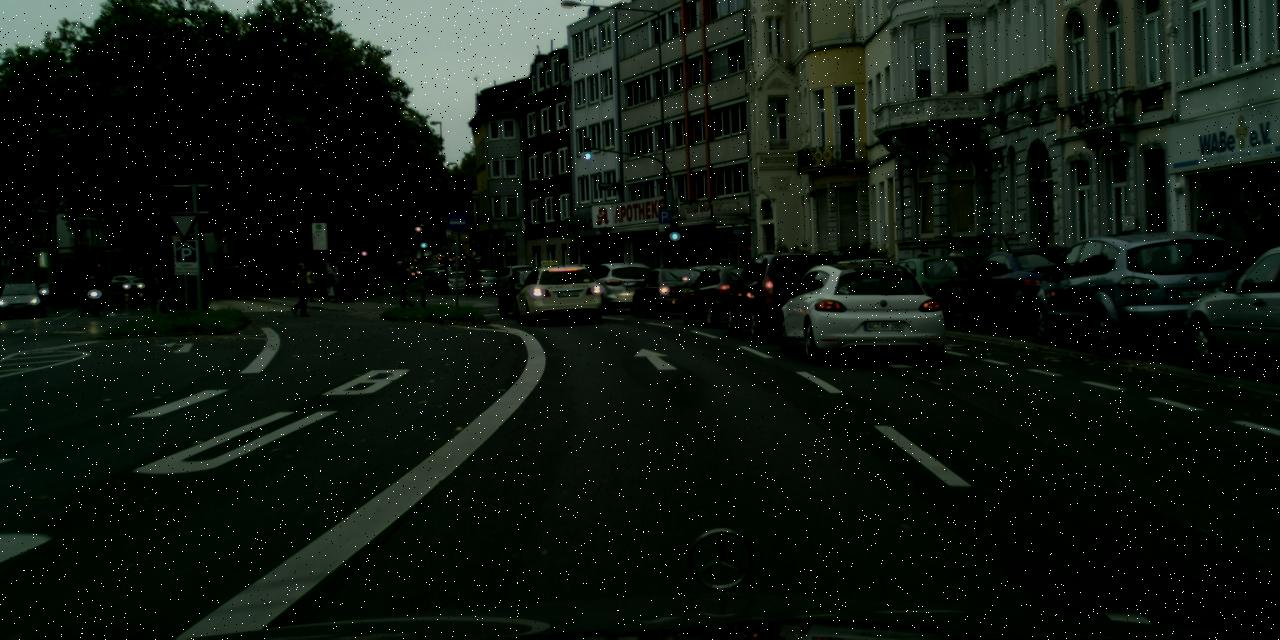ped: (1248, 226, 1278, 306), (942, 241, 968, 303), (913, 244, 938, 304), (289, 262, 310, 316), (392, 260, 412, 311), (700, 251, 719, 298), (152, 272, 170, 316), (672, 258, 688, 299), (326, 262, 342, 302), (85, 276, 101, 314), (316, 265, 330, 301), (304, 266, 318, 302), (464, 267, 474, 289), (59, 279, 65, 296), (74, 279, 78, 290)
